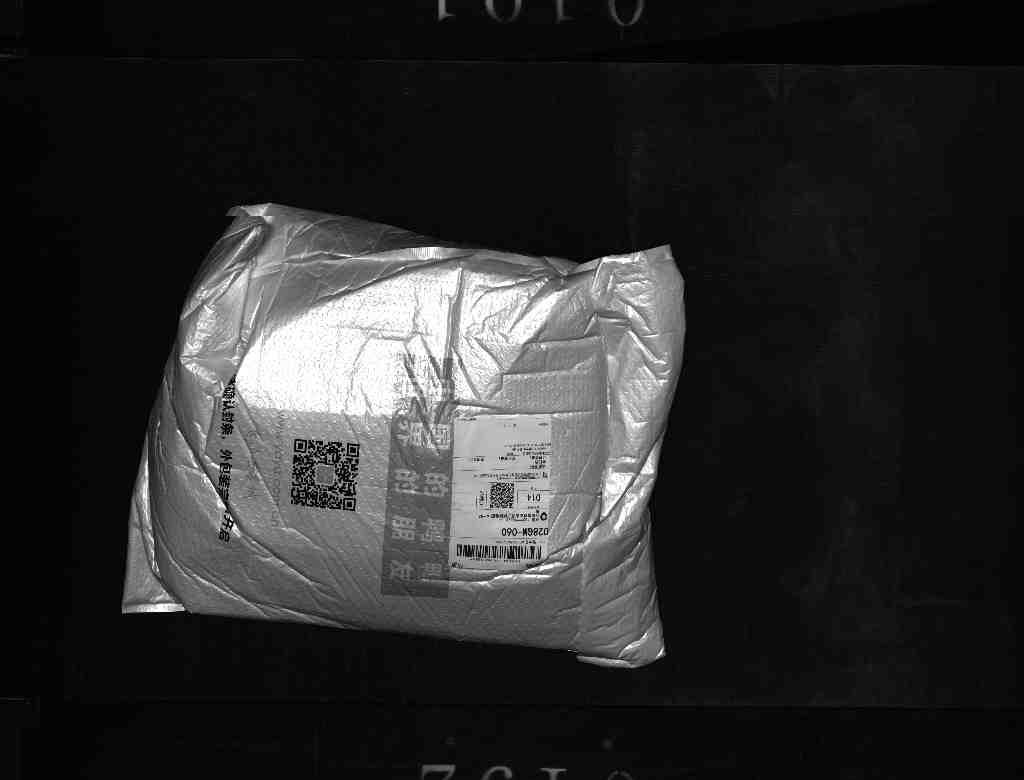box: (117, 184, 686, 672)
